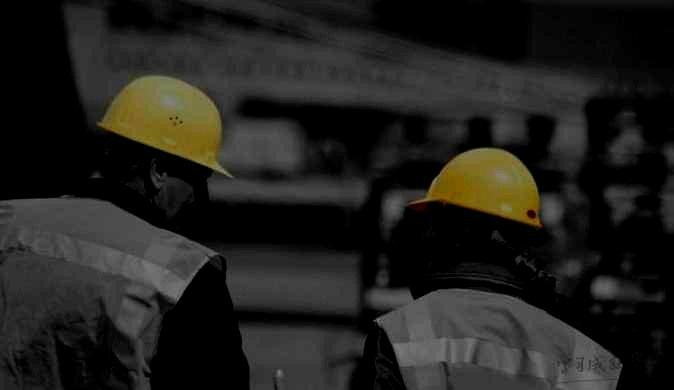helmet: (95, 73, 234, 225), (402, 147, 543, 276)
